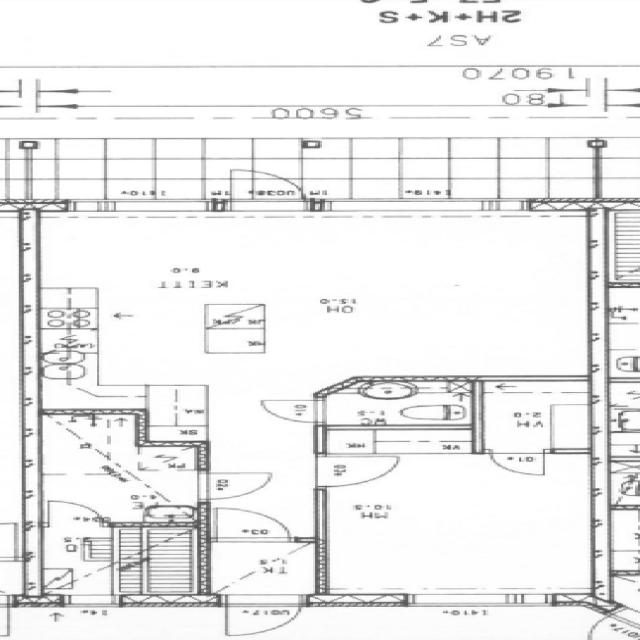door: (206, 565, 313, 638), (199, 466, 287, 542), (212, 167, 323, 217), (306, 452, 408, 488), (210, 504, 296, 542), (188, 466, 276, 501), (250, 395, 330, 426), (481, 447, 553, 477), (576, 607, 640, 639), (38, 500, 104, 524)
window: (310, 193, 530, 225), (392, 589, 564, 614), (54, 196, 221, 220), (10, 526, 37, 558)
zone: (25, 208, 611, 388), (22, 3, 640, 123), (314, 450, 601, 604), (33, 410, 202, 527), (9, 522, 211, 606), (473, 377, 598, 454), (322, 377, 478, 428)
